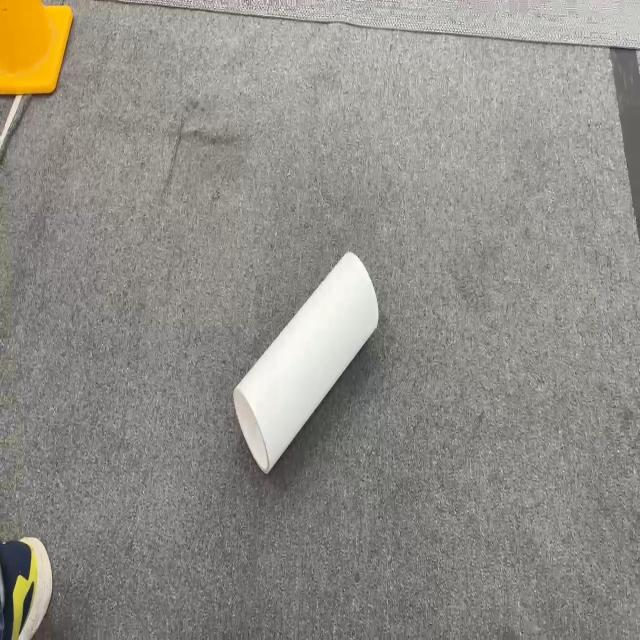coral: (232, 249, 379, 475)
